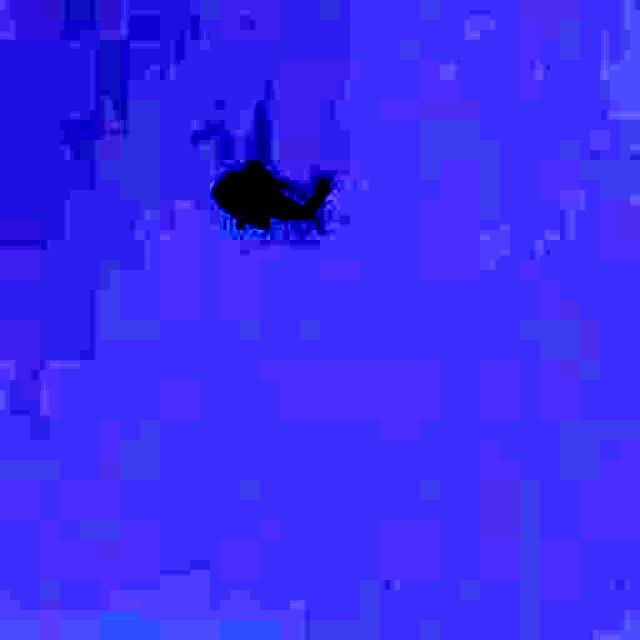drone: (206, 108, 342, 270)
